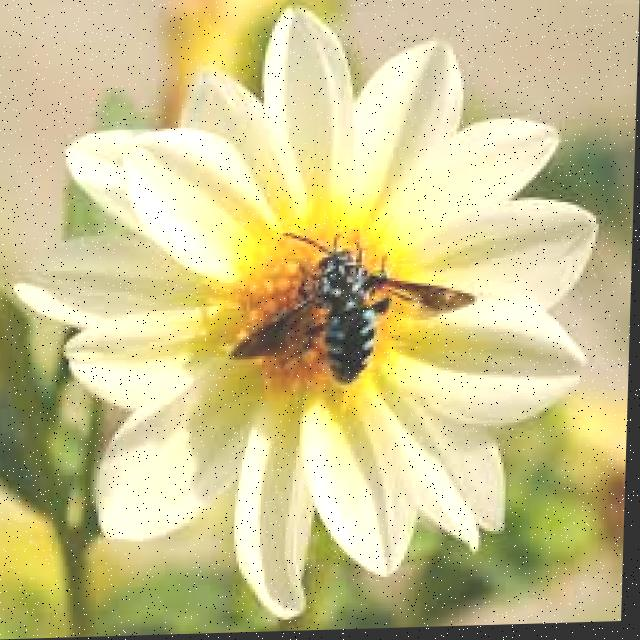Thyreus: (208, 219, 461, 388)
